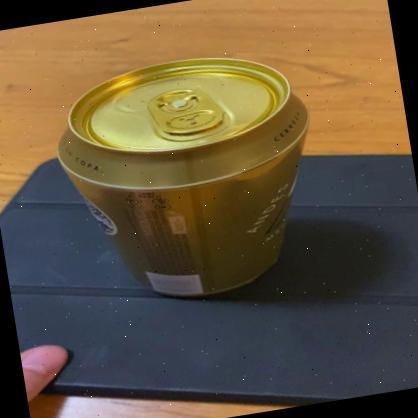can: (45, 40, 337, 320)
